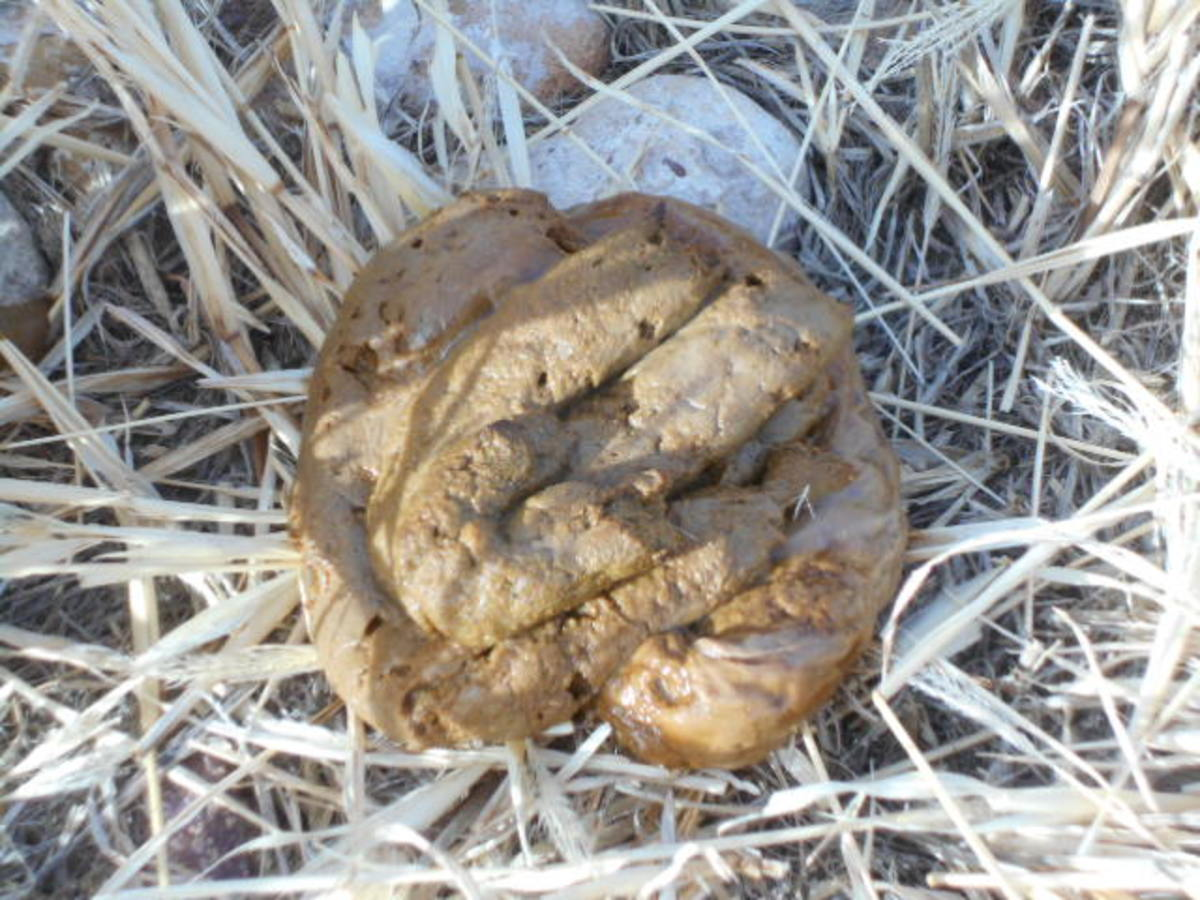Dog: (303, 194, 886, 729)
